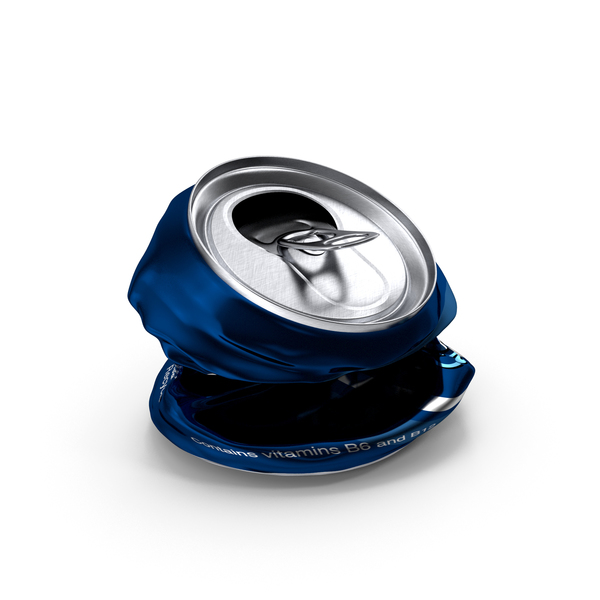can: (125, 155, 477, 480)
